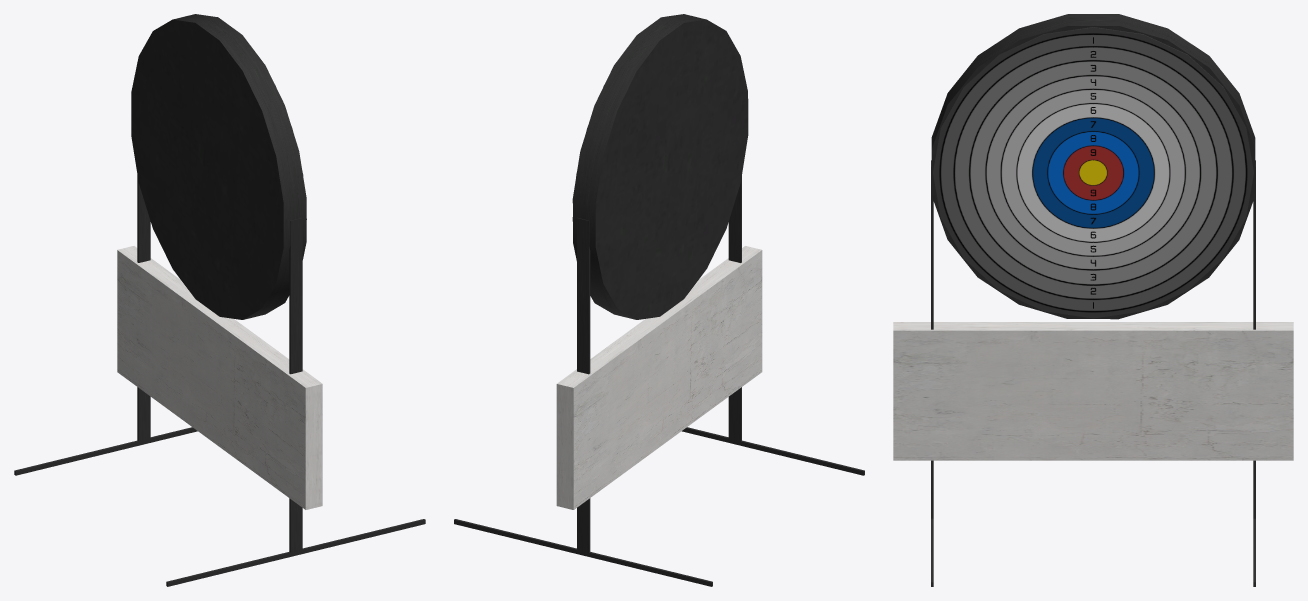
File: sportTargetPrefab.fbx
3 views of the same model, side by side, from view 1: azimuth 30°, elevation 25°; view 2: azimuth 150°, elevation 25°; view 3: azimuth 270°, elevation 25° (orthographic). The views are drawn at different scales.
Parts seen in each view (by area): view 1: Cylinder, Cube, Legs (1) (×3), Legs; view 2: Cylinder, Cube, Legs (1) (×3), Legs; view 3: Target, Cube, Cylinder, Legs (1), Legs.
Boxes of the visible parts, left/top/right/bottom form: Cylinder: left=131, top=14, right=306, bottom=319; Cube: left=117, top=246, right=322, bottom=509; Legs (1) (×3): left=14, top=175, right=425, bottom=586; Legs: left=289, top=218, right=302, bottom=554; Cylinder: left=572, top=14, right=748, bottom=319; Cube: left=556, top=246, right=762, bottom=509; Legs (1) (×3): left=454, top=217, right=864, bottom=586; Legs: left=728, top=176, right=741, bottom=443; Target: left=933, top=27, right=1253, bottom=318; Cube: left=893, top=322, right=1293, bottom=460; Cylinder: left=931, top=14, right=1255, bottom=319; Legs (1): left=1253, top=160, right=1255, bottom=518; Legs: left=931, top=160, right=933, bottom=518.
Bounding box in the file's own units: 1.84 × 3.21 × 2.33.
4 materials, 4 textured.
